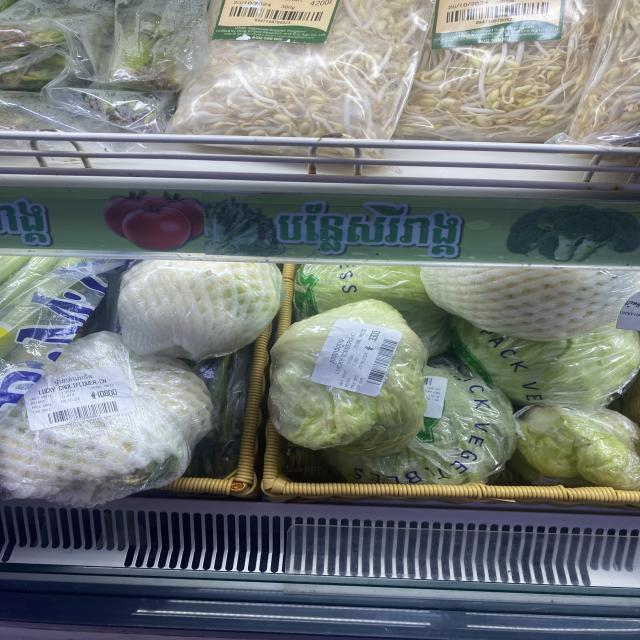196: (351, 356, 360, 367)
205: (61, 391, 76, 399)
545: (95, 387, 119, 400)
569: (345, 354, 355, 366)
580: (59, 387, 77, 396)
623: (59, 396, 81, 406)
696: (356, 352, 370, 370)
893: (447, 0, 490, 10), (474, 16, 516, 26), (253, 17, 293, 25), (234, 0, 273, 8), (254, 35, 283, 42), (367, 329, 381, 342), (309, 0, 331, 7), (280, 4, 297, 10)
Yolov11_80vkh: (267, 200, 470, 260), (3, 195, 67, 247), (51, 372, 97, 388), (328, 336, 347, 365), (363, 344, 377, 352), (88, 391, 98, 400)
